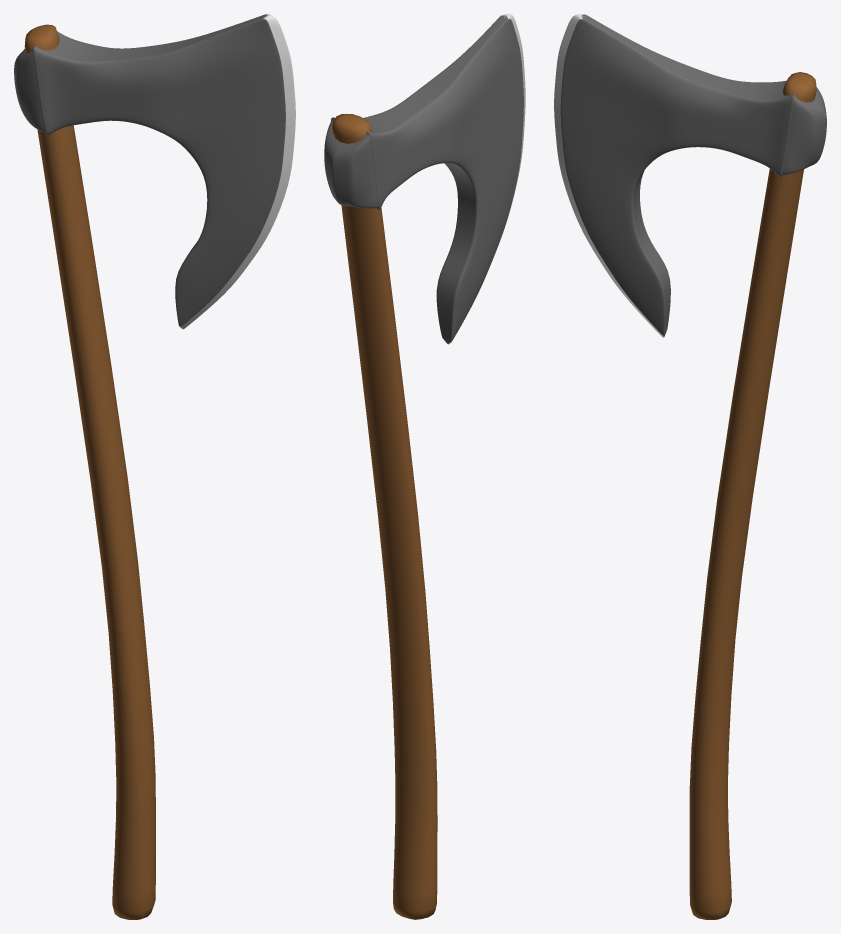
File: axe_0.glb
The picture shows the model from 3 angles, left to right: view 1: azimuth 90°, elevation 25°; view 2: azimuth 150°, elevation 25°; view 3: azimuth 270°, elevation 25°; orthographic projection. The views are drawn at different scales.
Visible parts, largest first — view 1: ccce8c8b41cf4196bf91d454d1edfaa3; view 2: ccce8c8b41cf4196bf91d454d1edfaa3; view 3: ccce8c8b41cf4196bf91d454d1edfaa3.
Part boxes in pixels (bbox=[...]): ccce8c8b41cf4196bf91d454d1edfaa3: bbox=[14, 14, 295, 919]; ccce8c8b41cf4196bf91d454d1edfaa3: bbox=[324, 14, 525, 919]; ccce8c8b41cf4196bf91d454d1edfaa3: bbox=[554, 14, 826, 919].
Bounding box in the file's own units: 0.0992 × 0.9979 × 0.2788.
